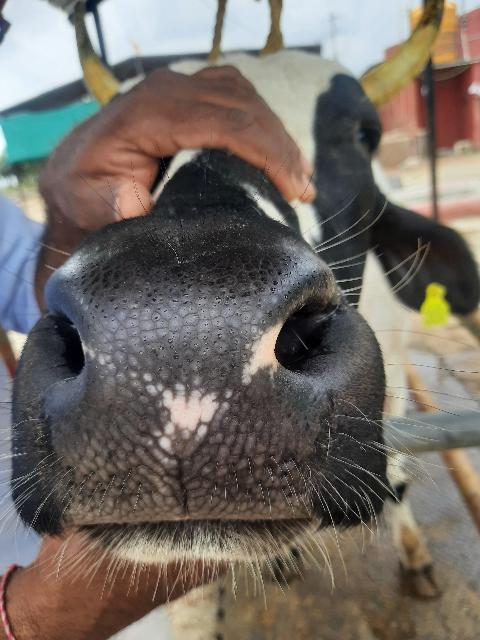Muzzle: (66, 264, 278, 524)
